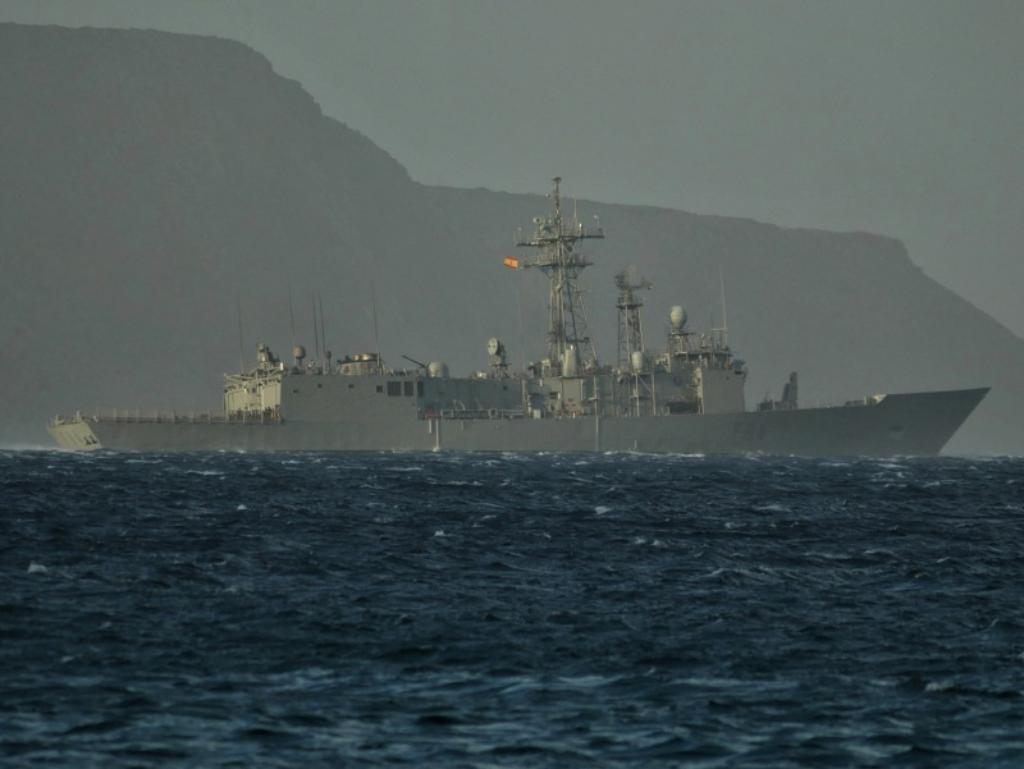Warship: (44, 174, 1000, 466)
